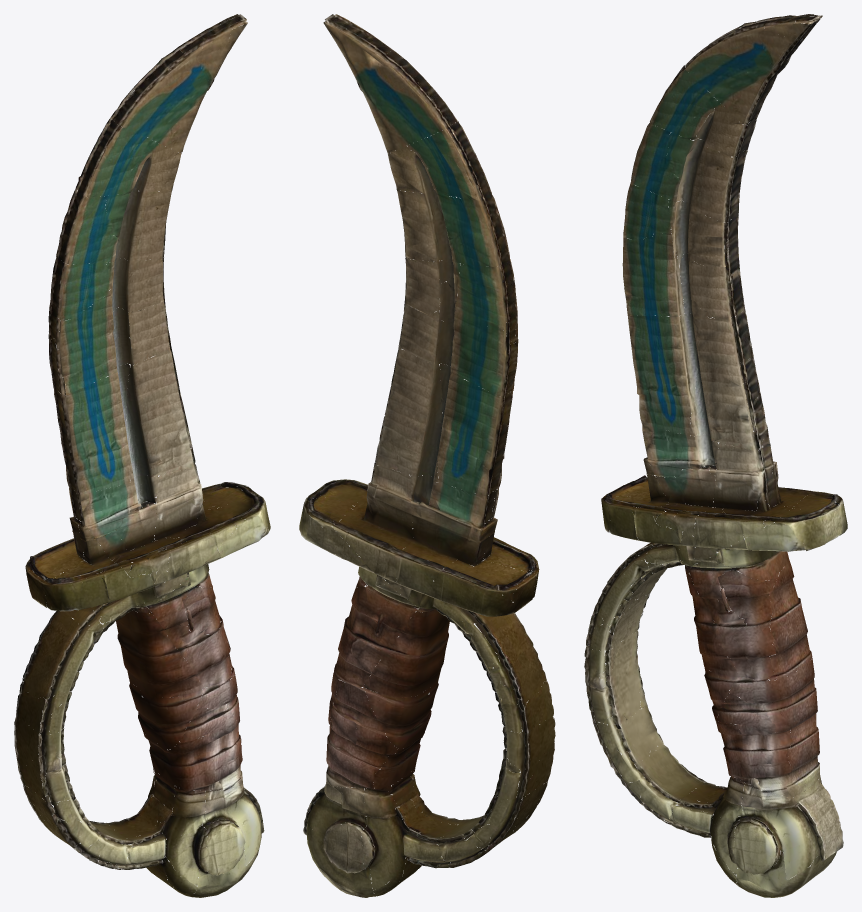
Rendered from saber.glb.
3 views of the same model, side by side, from view 1: azimuth 30°, elevation 25°; view 2: azimuth 150°, elevation 25°; view 3: azimuth 330°, elevation 25° (orthographic). The views are drawn at different scales.
Visible parts, largest first — view 1: tripo_node_b5ed8901-0ea0-4057-9e2f-e7df240846d4; view 2: tripo_node_b5ed8901-0ea0-4057-9e2f-e7df240846d4; view 3: tripo_node_b5ed8901-0ea0-4057-9e2f-e7df240846d4.
Part boxes in pixels (x1,y1,x2,y2): tripo_node_b5ed8901-0ea0-4057-9e2f-e7df240846d4: (14, 14, 270, 897); tripo_node_b5ed8901-0ea0-4057-9e2f-e7df240846d4: (299, 14, 555, 897); tripo_node_b5ed8901-0ea0-4057-9e2f-e7df240846d4: (584, 14, 847, 897).
Bounding box in the file's own units: 0.2413 × 0.85 × 0.0903.
Materials: 2 (1 with a texture image).
